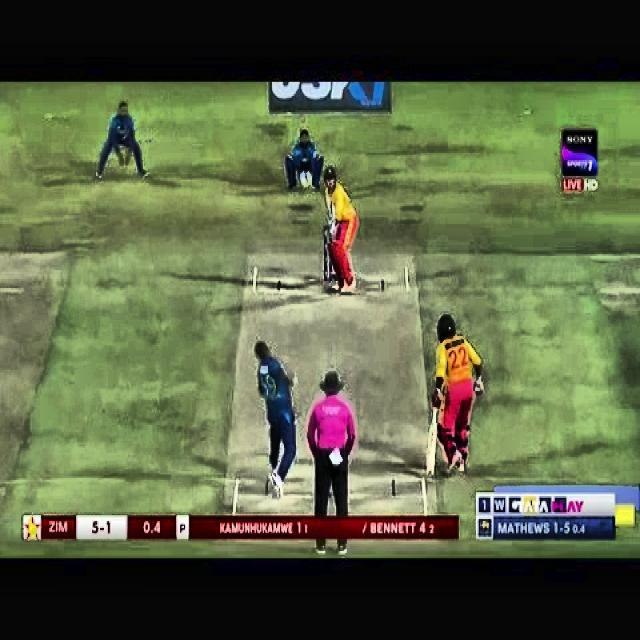Left-stump: (324, 231, 328, 282)
Middle-stump: (329, 254, 333, 279)
